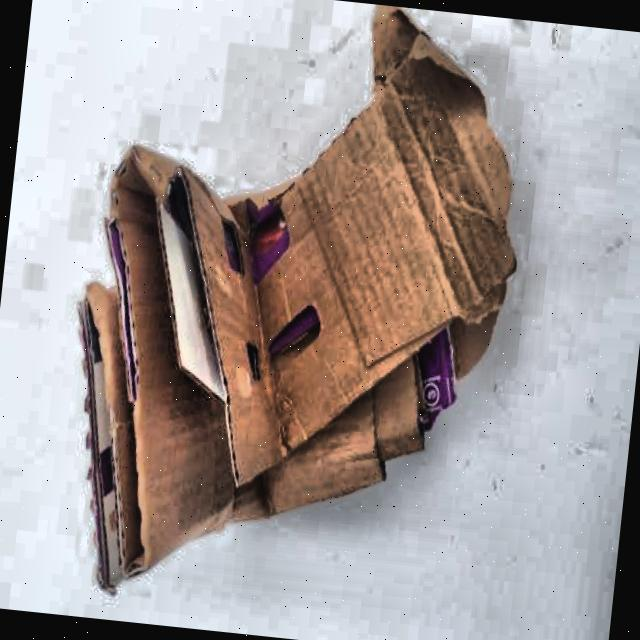cardboard: (46, 0, 536, 627)
